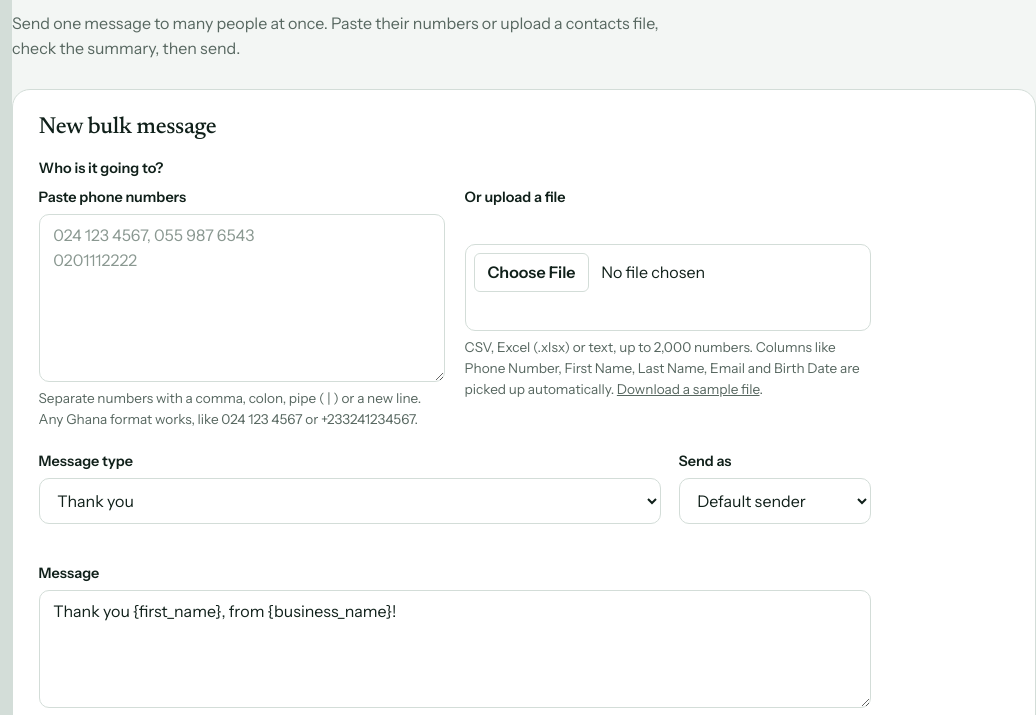
BulkSend › lists the numbers that were left out and why
Step 1. Click the text box labelled "Paste phone numbers" → (242, 298), box [39, 214, 445, 382]
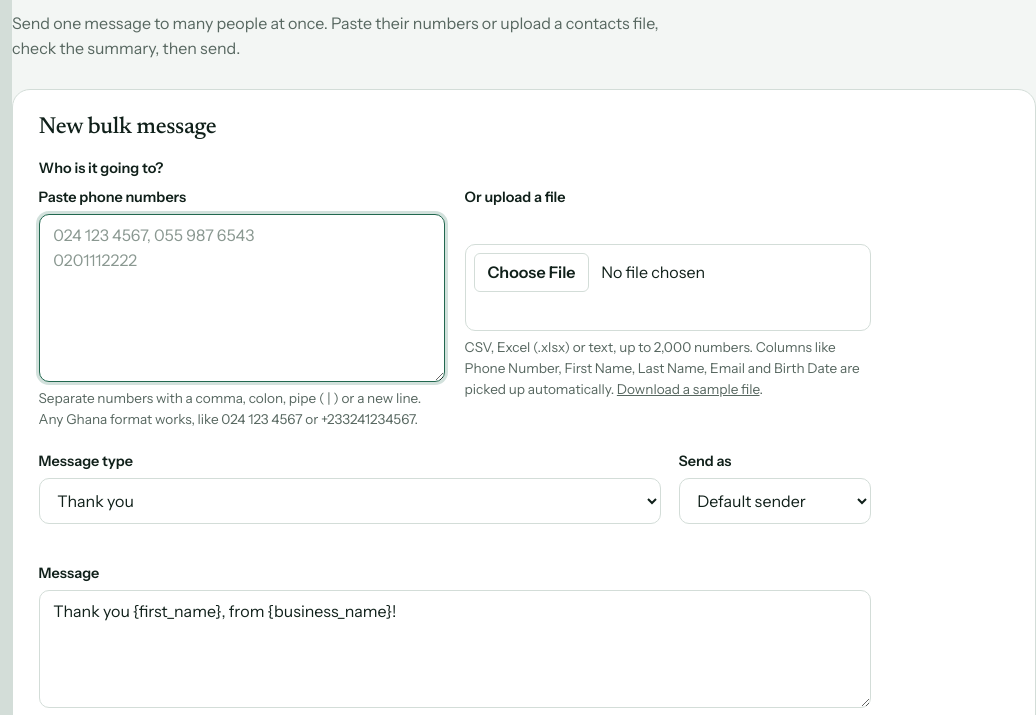
Step 2. Type keys "0241234567, 0551234567"
(page scrolled)
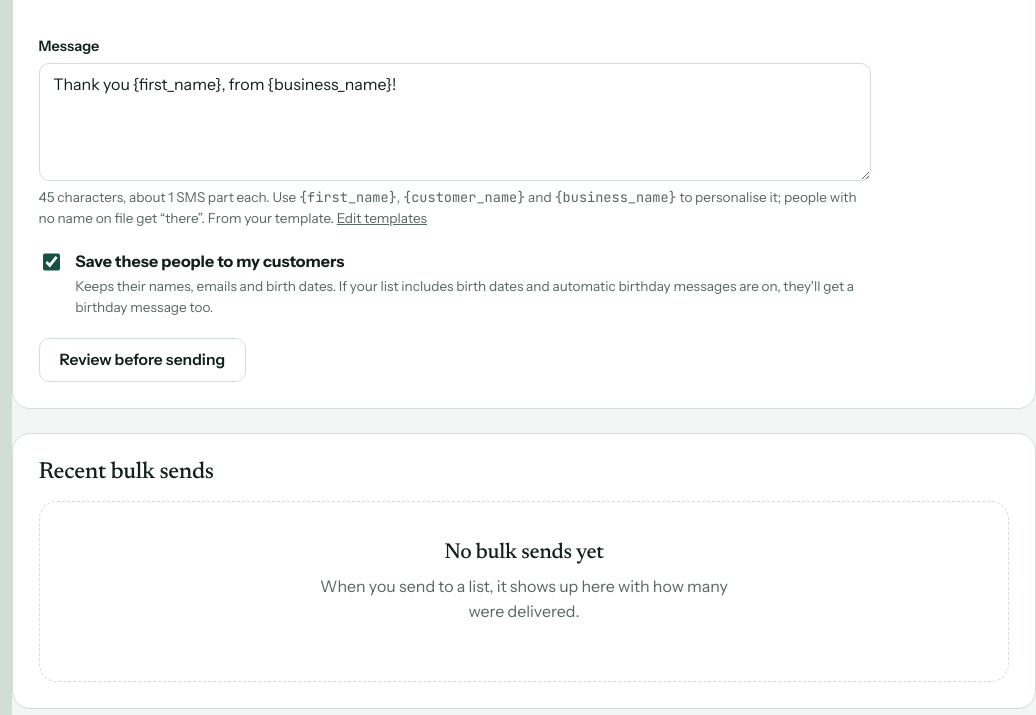
Step 3. Click the button "Review before sending" → (142, 360), box [39, 338, 246, 382]
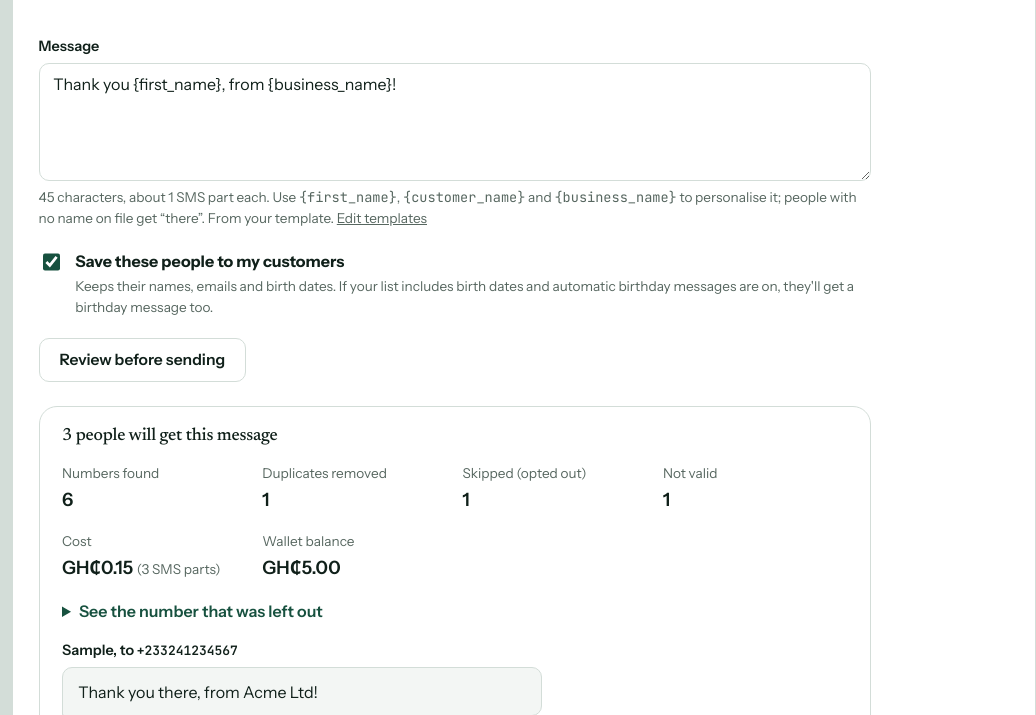
Step 4. Click the heading "See the number that was left out" → (201, 611), box [79, 601, 323, 621]
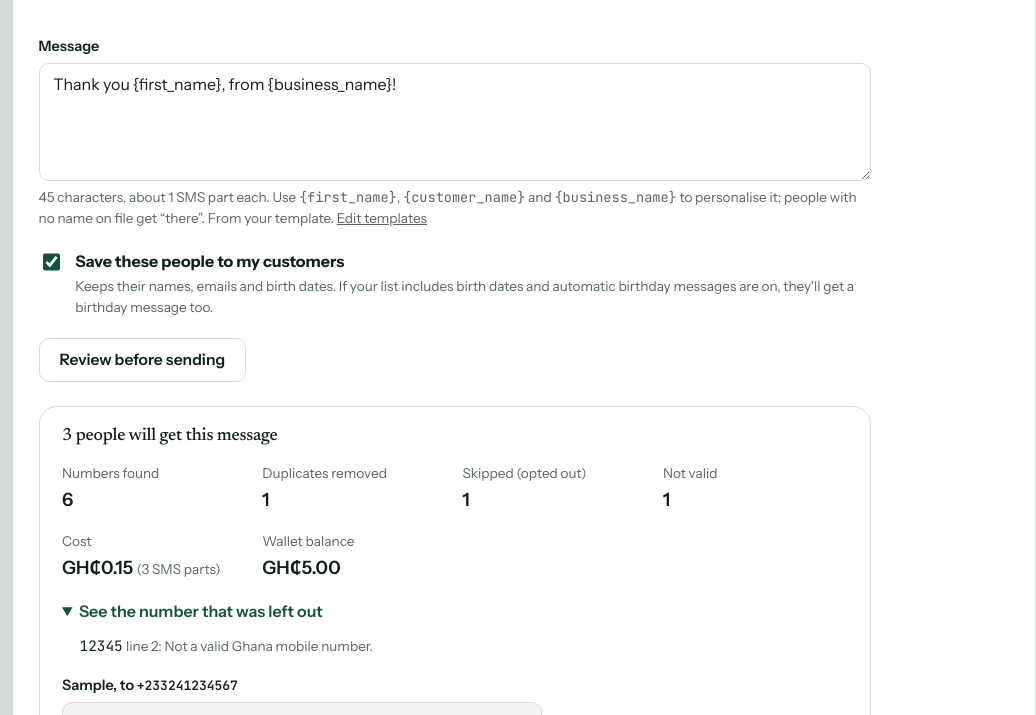
Check: the text "12345" is shown, box [80, 636, 123, 655]
Check: the text "line 2: Not a valid Ghana mobile number." is shown, box [126, 638, 373, 654]
